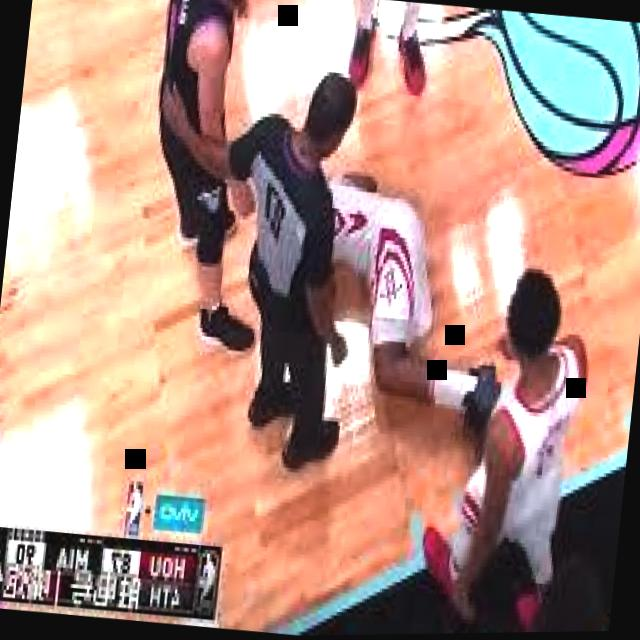Fall-Detected: (273, 133, 532, 425)
